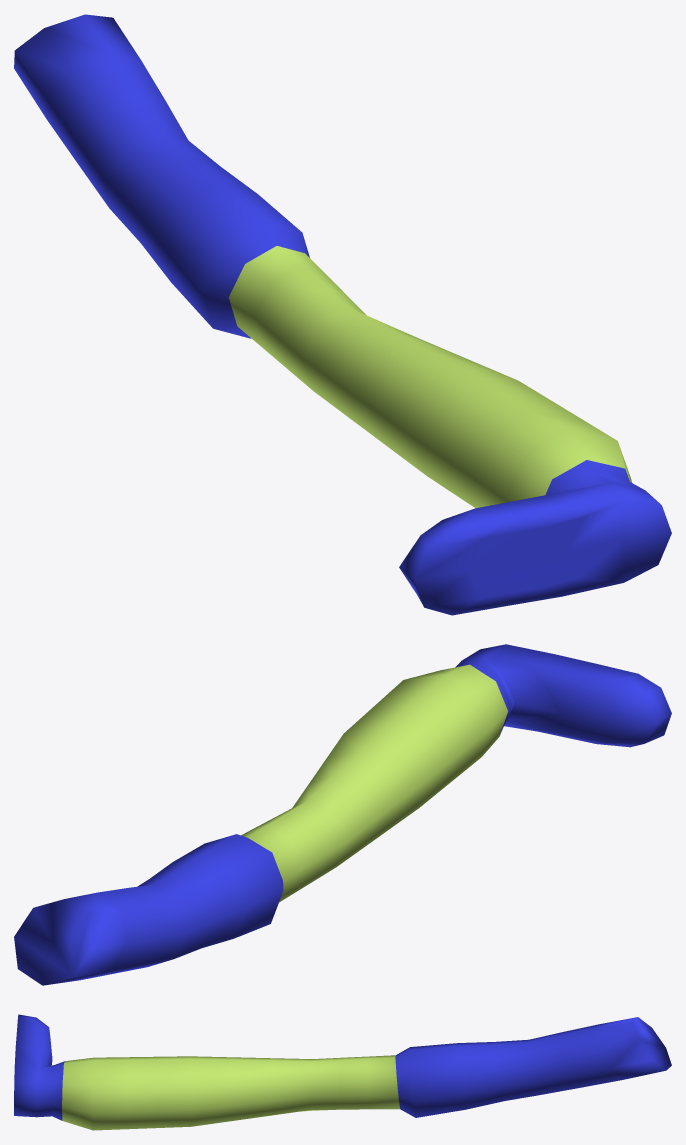
File: perna 1.fbx
3 views of the same model, one above another, from view 1: azimuth 30°, elevation 25°; view 2: azimuth 150°, elevation 25°; view 3: azimuth 270°, elevation 25° (orthographic). The views are drawn at different scales.
Visible parts, largest first — view 1: Formiga.004; view 2: Formiga.004; view 3: Formiga.004.
Boxes of the visible parts, x1=… form: Formiga.004: x1=14, y1=14, x2=671, y2=615; Formiga.004: x1=14, y1=644, x2=671, y2=985; Formiga.004: x1=14, y1=1014, x2=671, y2=1130.
Bounding box in the file's own units: 135 × 81.96 × 481.
